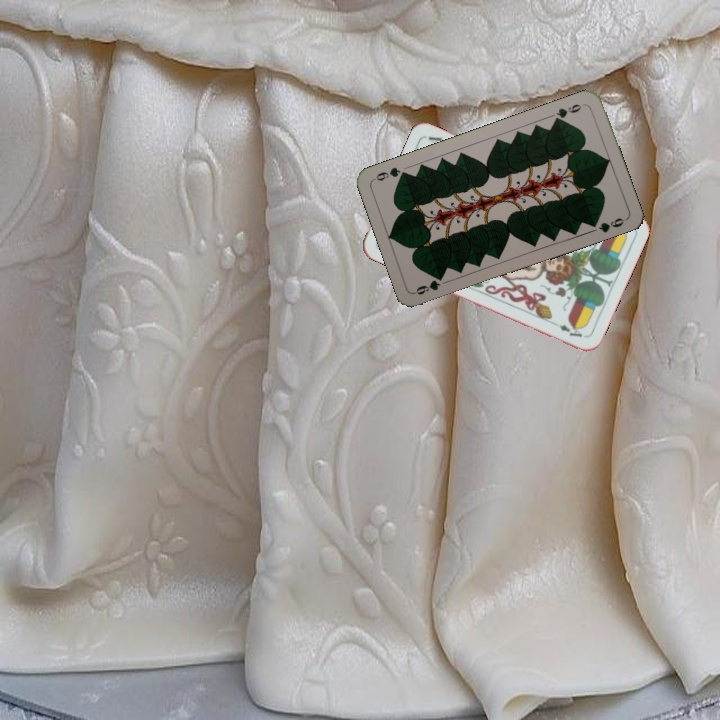G9: (411, 272, 446, 297), (550, 100, 584, 125)
